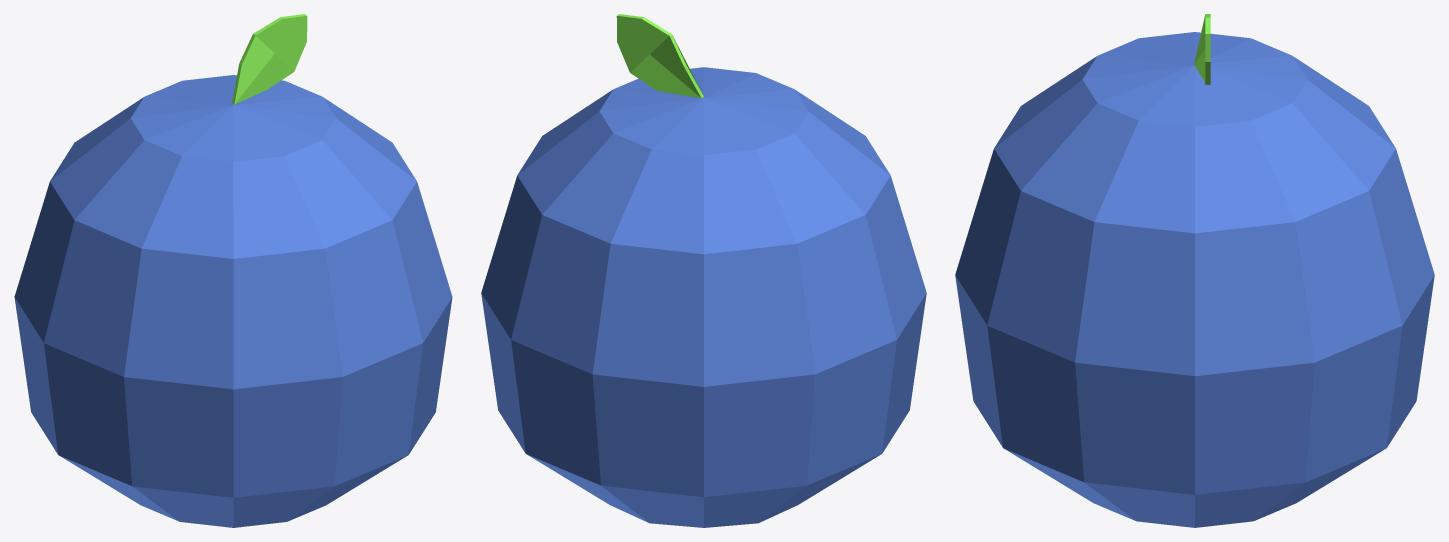
Rendered from bluberiKOOL.fbx.
3 views of the same model, side by side, from view 1: azimuth 30°, elevation 25°; view 2: azimuth 150°, elevation 25°; view 3: azimuth 270°, elevation 25° (orthographic). The views are drawn at different scales.
Visible parts, largest first — view 1: Sphere.012; view 2: Sphere.012; view 3: Sphere.012.
Boxes of the visible parts, <box> form: Sphere.012: <box>14,14,452,527</box>; Sphere.012: <box>481,14,926,527</box>; Sphere.012: <box>955,14,1434,527</box>.
Bounding box in the file's own units: 156 × 183 × 156.
